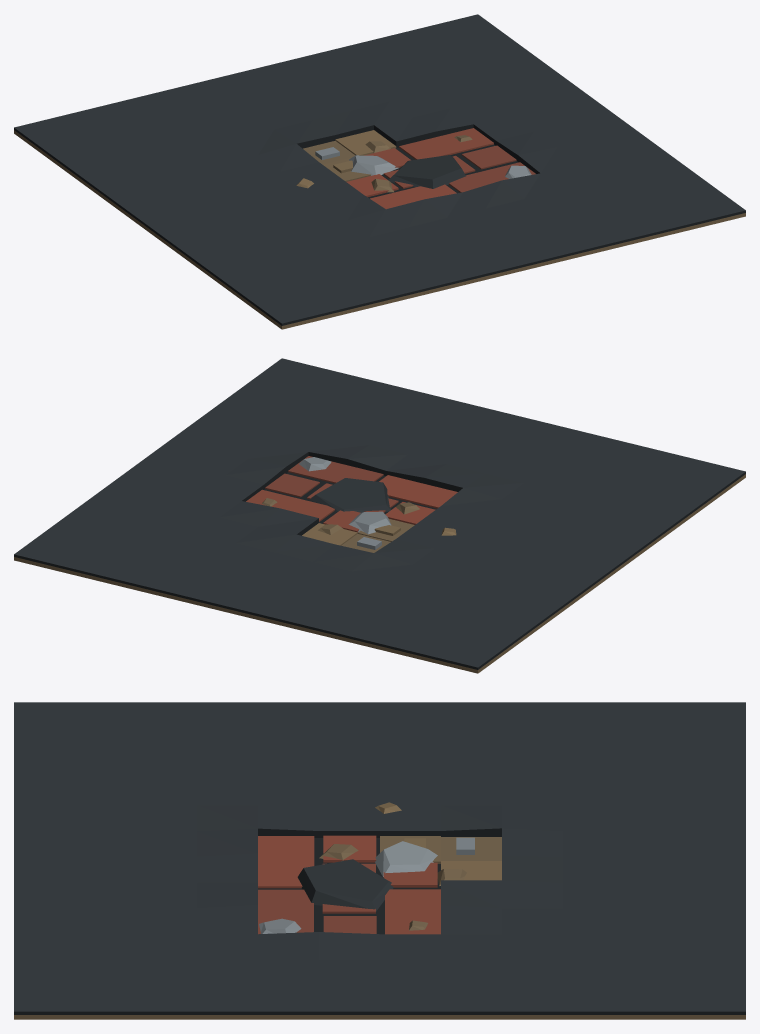
The model's file is broken-out-road-tile-c9e990.glb.
The picture shows the model from 3 angles, top to bottom: view 1: azimuth 30°, elevation 25°; view 2: azimuth 150°, elevation 25°; view 3: azimuth 270°, elevation 25°; orthographic projection. The views are drawn at different scales.
Parts seen in each view (by area): view 1: road-surface; view 2: road-surface; view 3: road-surface.
Boxes of the visible parts, <box> form: road-surface: <box>14,14,745,329</box>; road-surface: <box>14,358,745,673</box>; road-surface: <box>14,702,745,1019</box>.
Bounding box in the file's own units: 4 × 0.0861 × 4.
